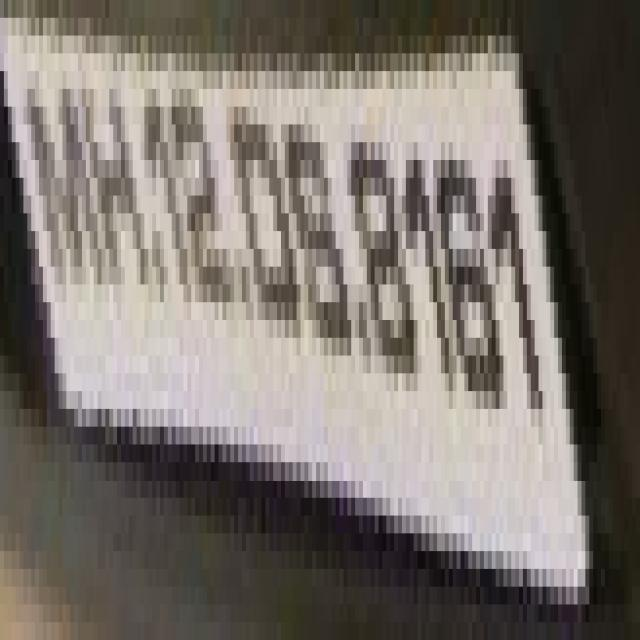license_plate: (19, 18, 590, 569)
